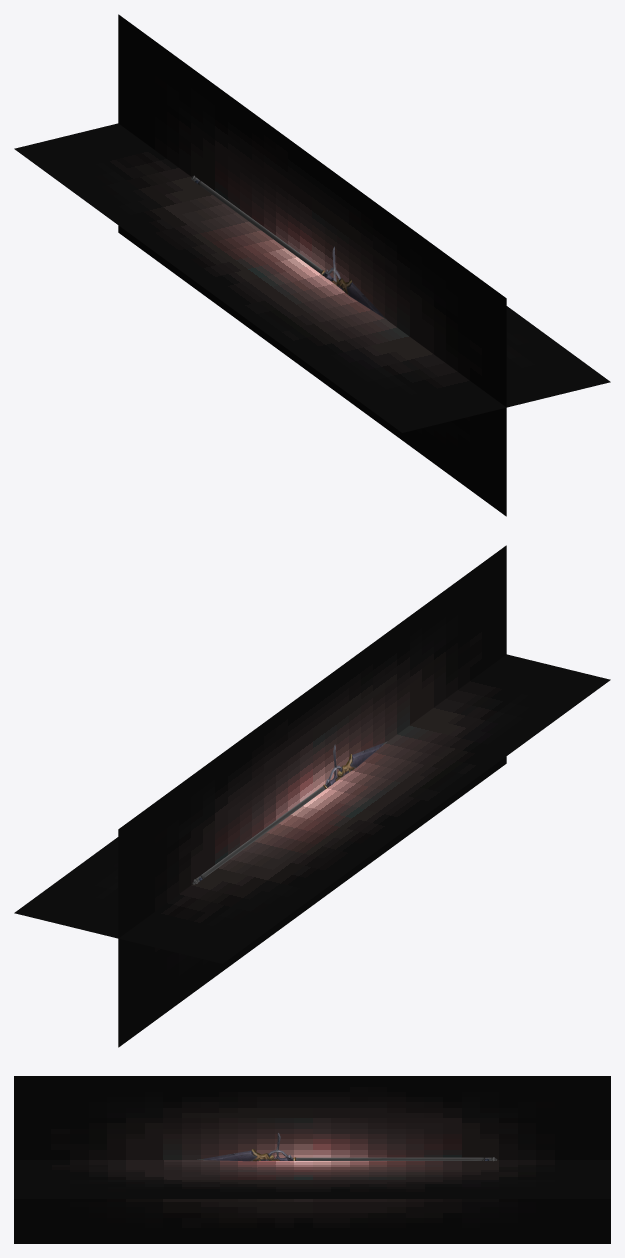
The model's file is projmagicspear_y.fbx.
3 renders of one model, top to bottom at view 1: azimuth 30°, elevation 25°; view 2: azimuth 150°, elevation 25°; view 3: azimuth 270°, elevation 25°, orthographic. The views are drawn at different scales.
Visible parts, largest first — view 1: aaplane_2_twoside, aaplane_2_twoside (1), mesh_spear; view 2: aaplane_2_twoside, aaplane_2_twoside (1), mesh_spear; view 3: aaplane_2_twoside, aaplane_2_twoside (1), mesh_spear.
Boxes of the visible parts, <box> form: aaplane_2_twoside: <box>118,14,506,516</box>; aaplane_2_twoside (1): <box>14,123,610,432</box>; mesh_spear: <box>191,175,386,319</box>; aaplane_2_twoside: <box>118,545,506,1047</box>; aaplane_2_twoside (1): <box>14,654,610,963</box>; mesh_spear: <box>192,741,387,884</box>; aaplane_2_twoside: <box>14,1076,610,1243</box>; aaplane_2_twoside (1): <box>14,1160,610,1198</box>; mesh_spear: <box>197,1133,497,1161</box>.
Bounding box in the file's own units: 1.31 × 1.31 × 4.22.
Materials: 2 (2 with a texture image).
